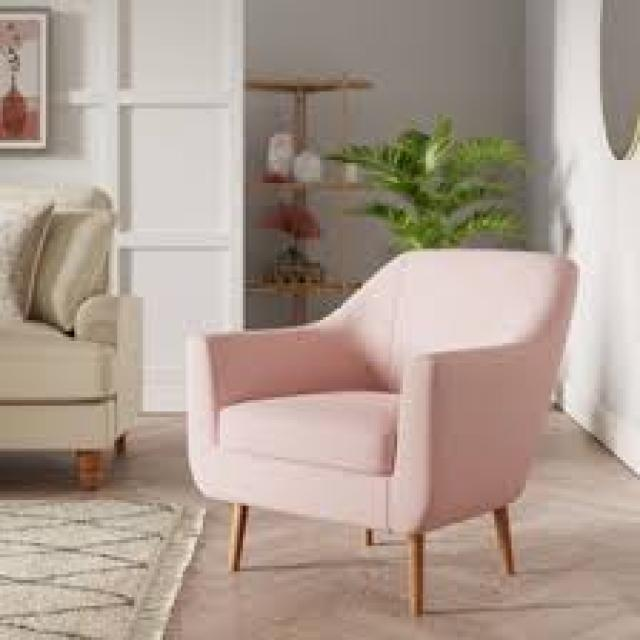chair: (155, 172, 593, 640)
